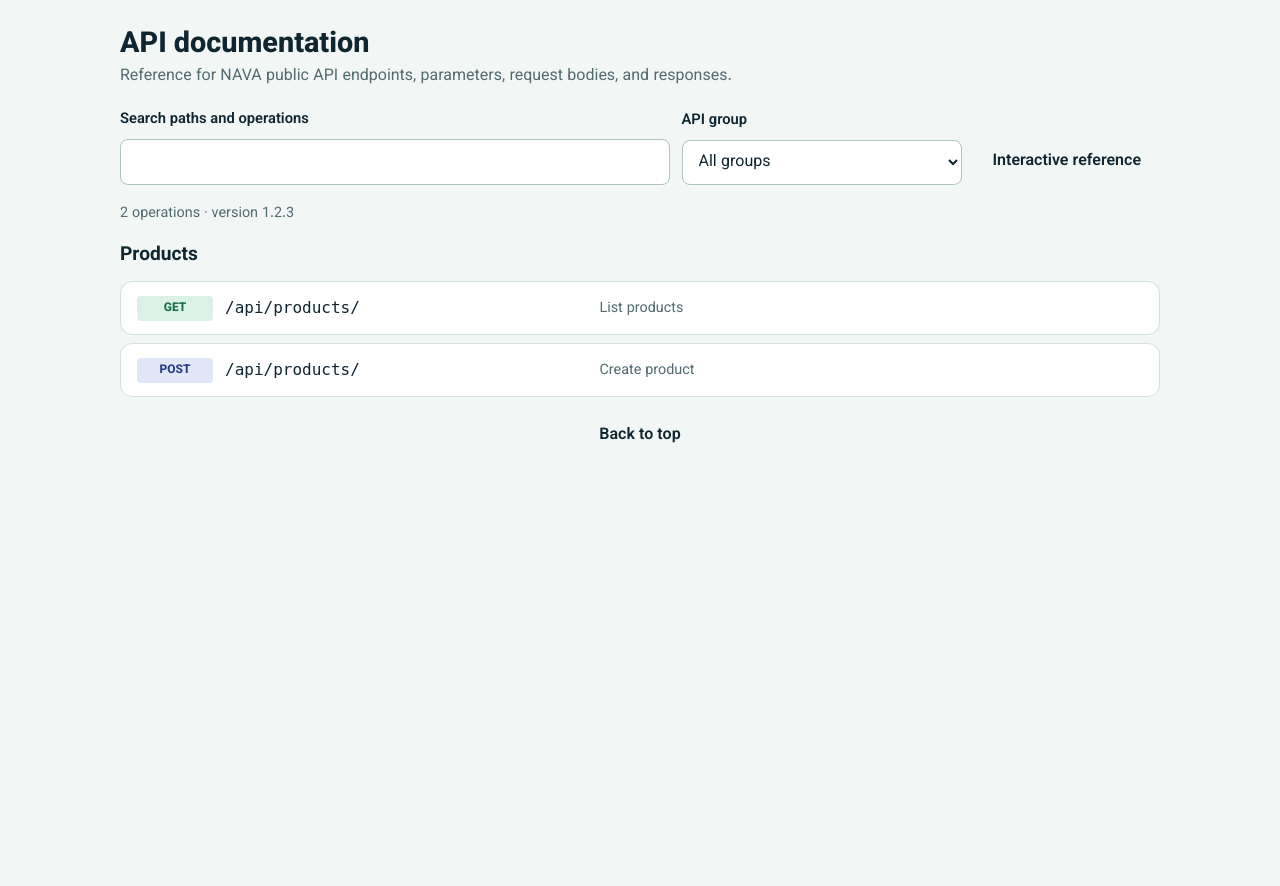
Test: API documentation page › renders API operations from OpenAPI, including parameters, schemas, and responses
Check: the text "List products" is shown, box [599, 297, 683, 320]
Check: the text "POST" is shown, box [137, 358, 213, 383]
Click the text "Create product": (647, 370) [599, 359, 694, 382]
(page scrolled)
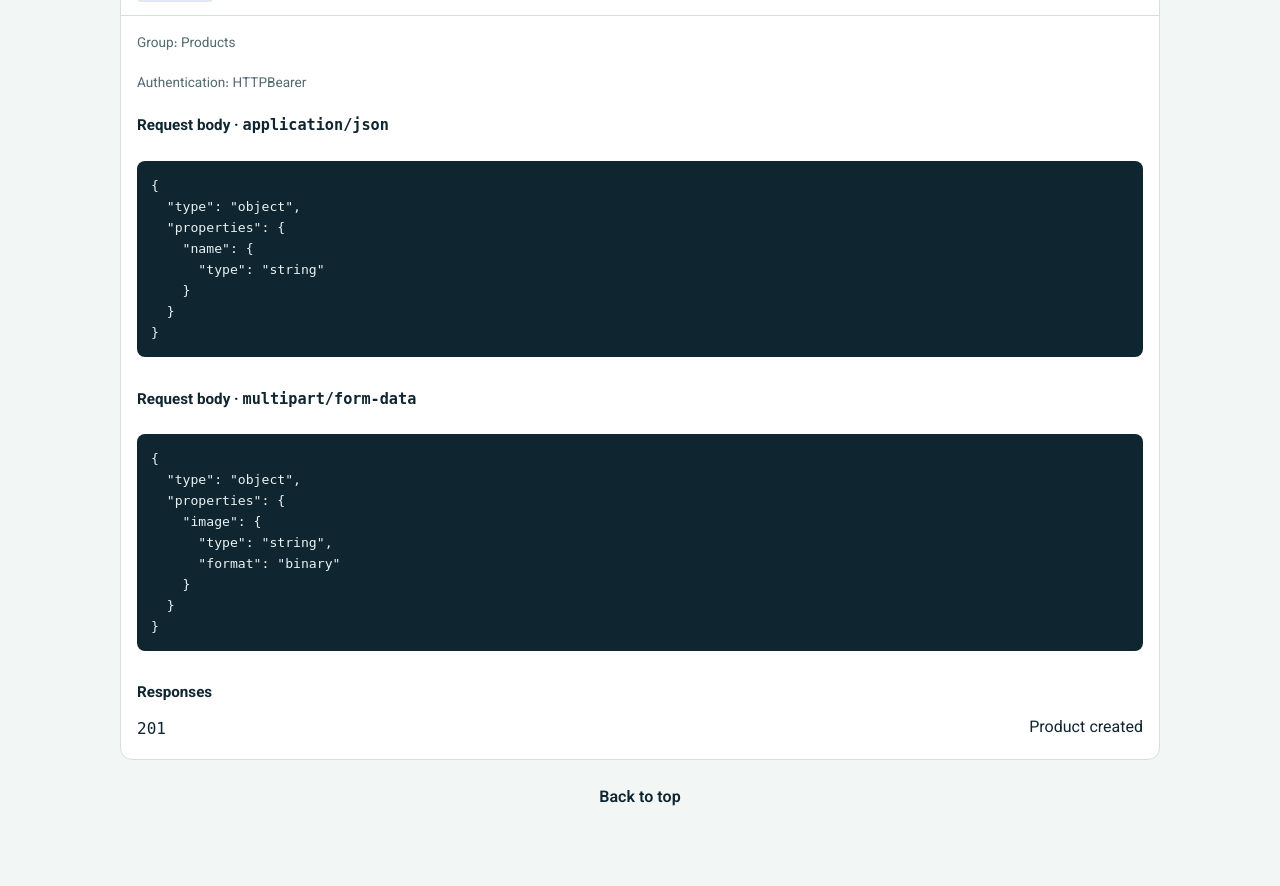
Check: the text "\"name\"" is shown, box [151, 178, 325, 340]
Check: the text "multipart/form-data" is shown, box [242, 390, 416, 408]
Check: the text "Authentication: HTTPBearer" is shown, box [137, 73, 306, 94]
